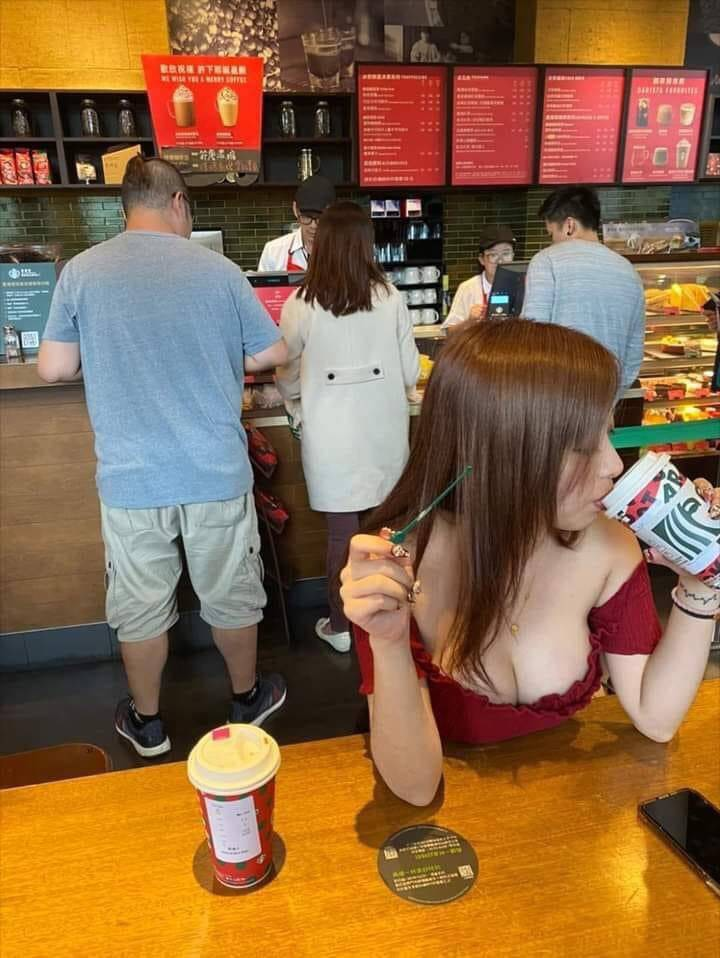people: (371, 320, 719, 783), (48, 159, 286, 739), (304, 206, 409, 539), (532, 188, 650, 403), (457, 224, 529, 327)
